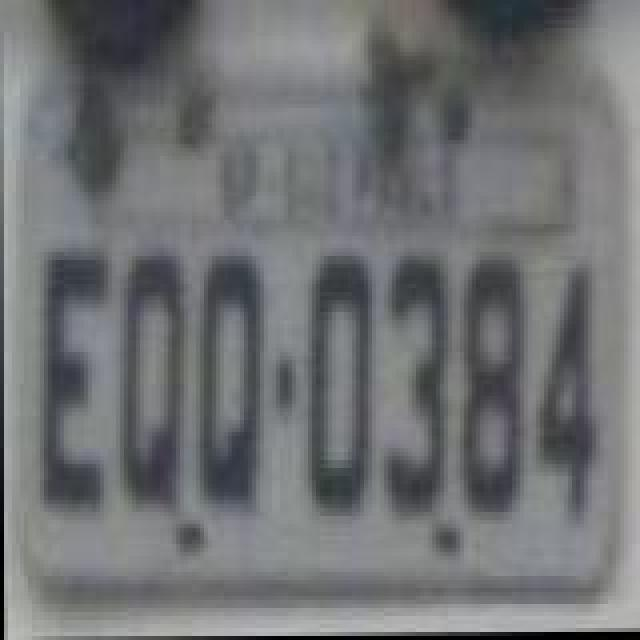3: (380, 254, 448, 522)
4: (540, 264, 600, 524)
8: (456, 246, 524, 526)
E: (38, 246, 110, 514)
O: (302, 254, 374, 522)
Q: (120, 248, 188, 516), (200, 248, 268, 516)
